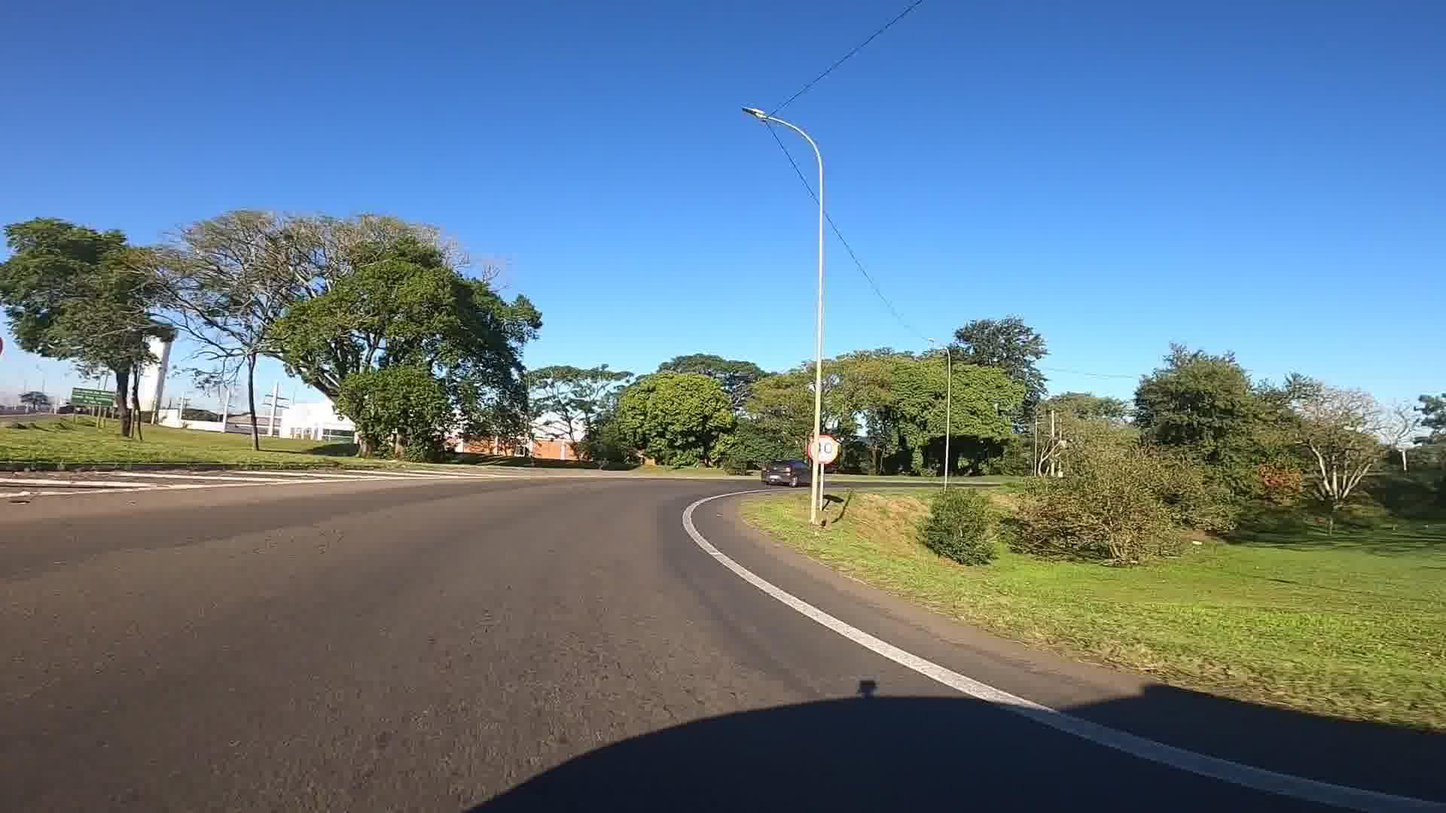R-19: (805, 431, 842, 467)
